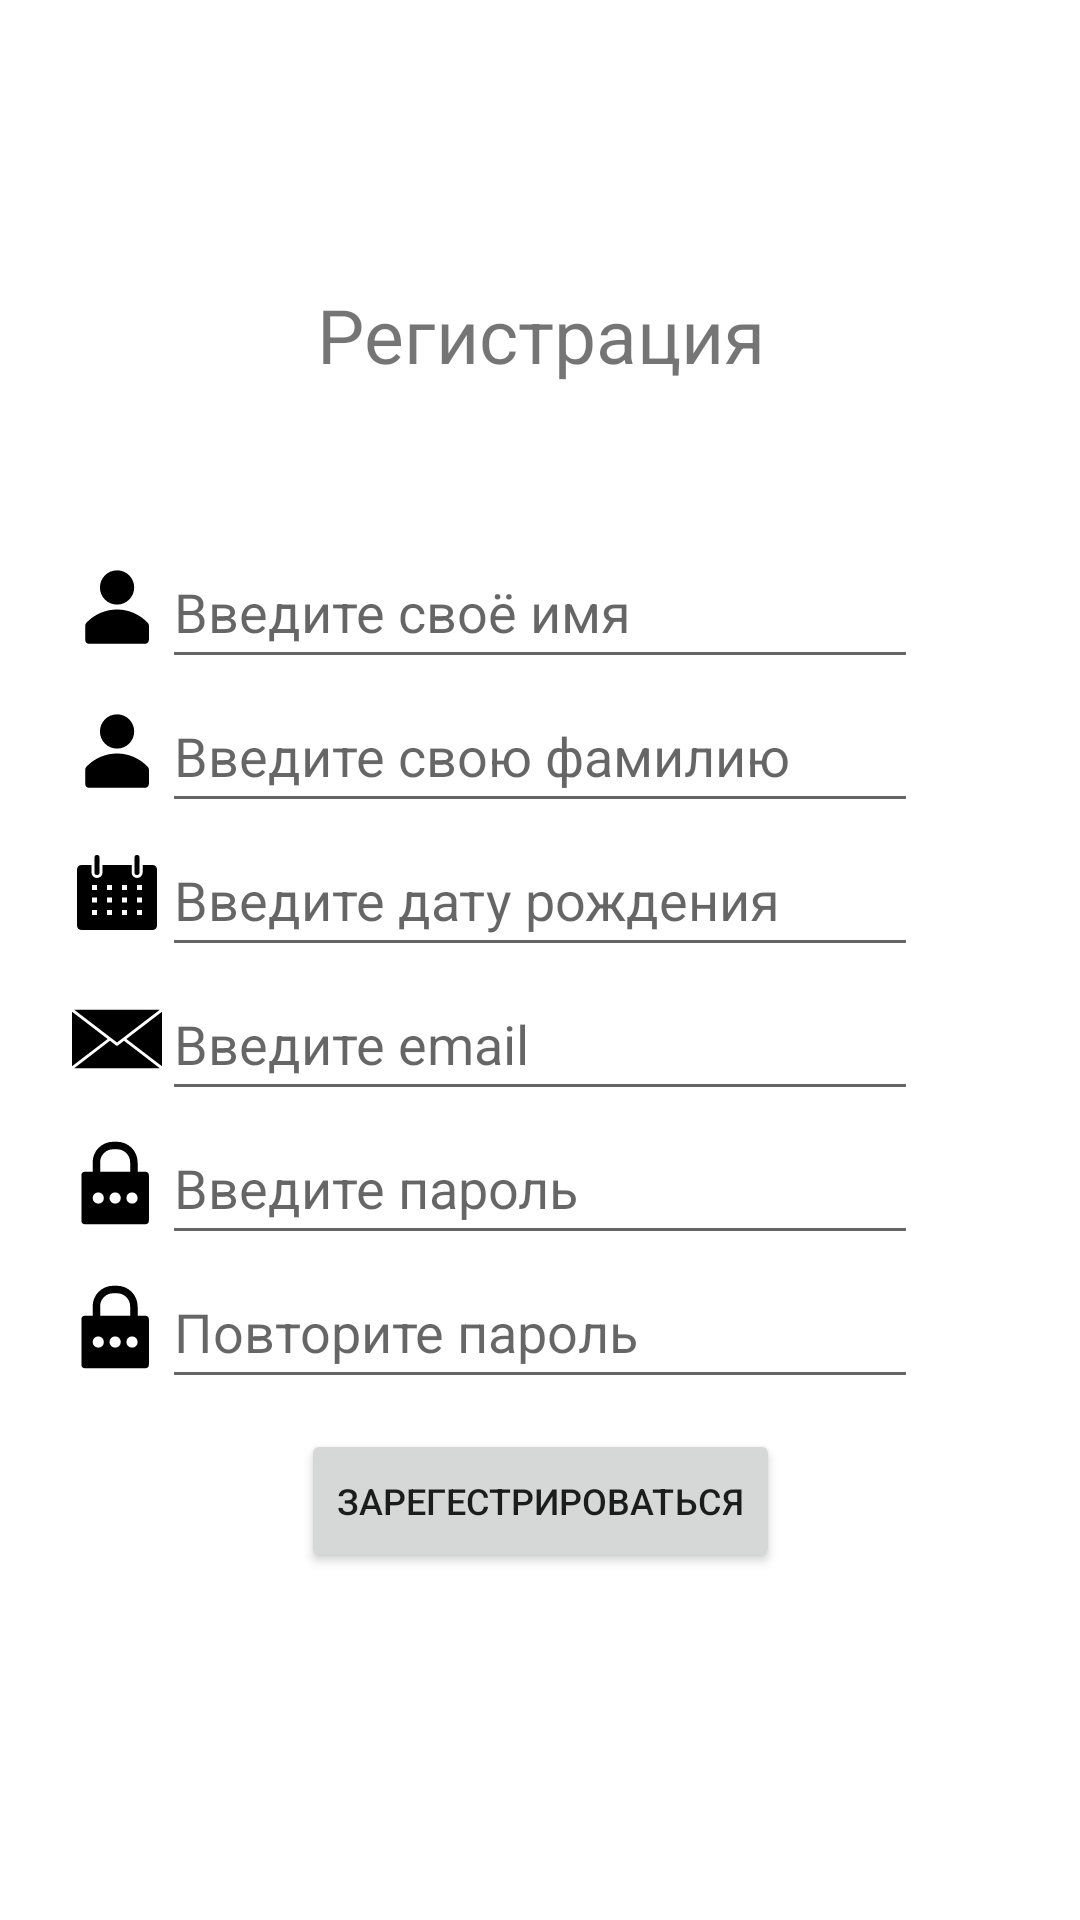

Icon click points for this 1080x1920 phone screenshot, format (x,y):
calendar: (117,892)
password: (115,1183), (115,1327)
